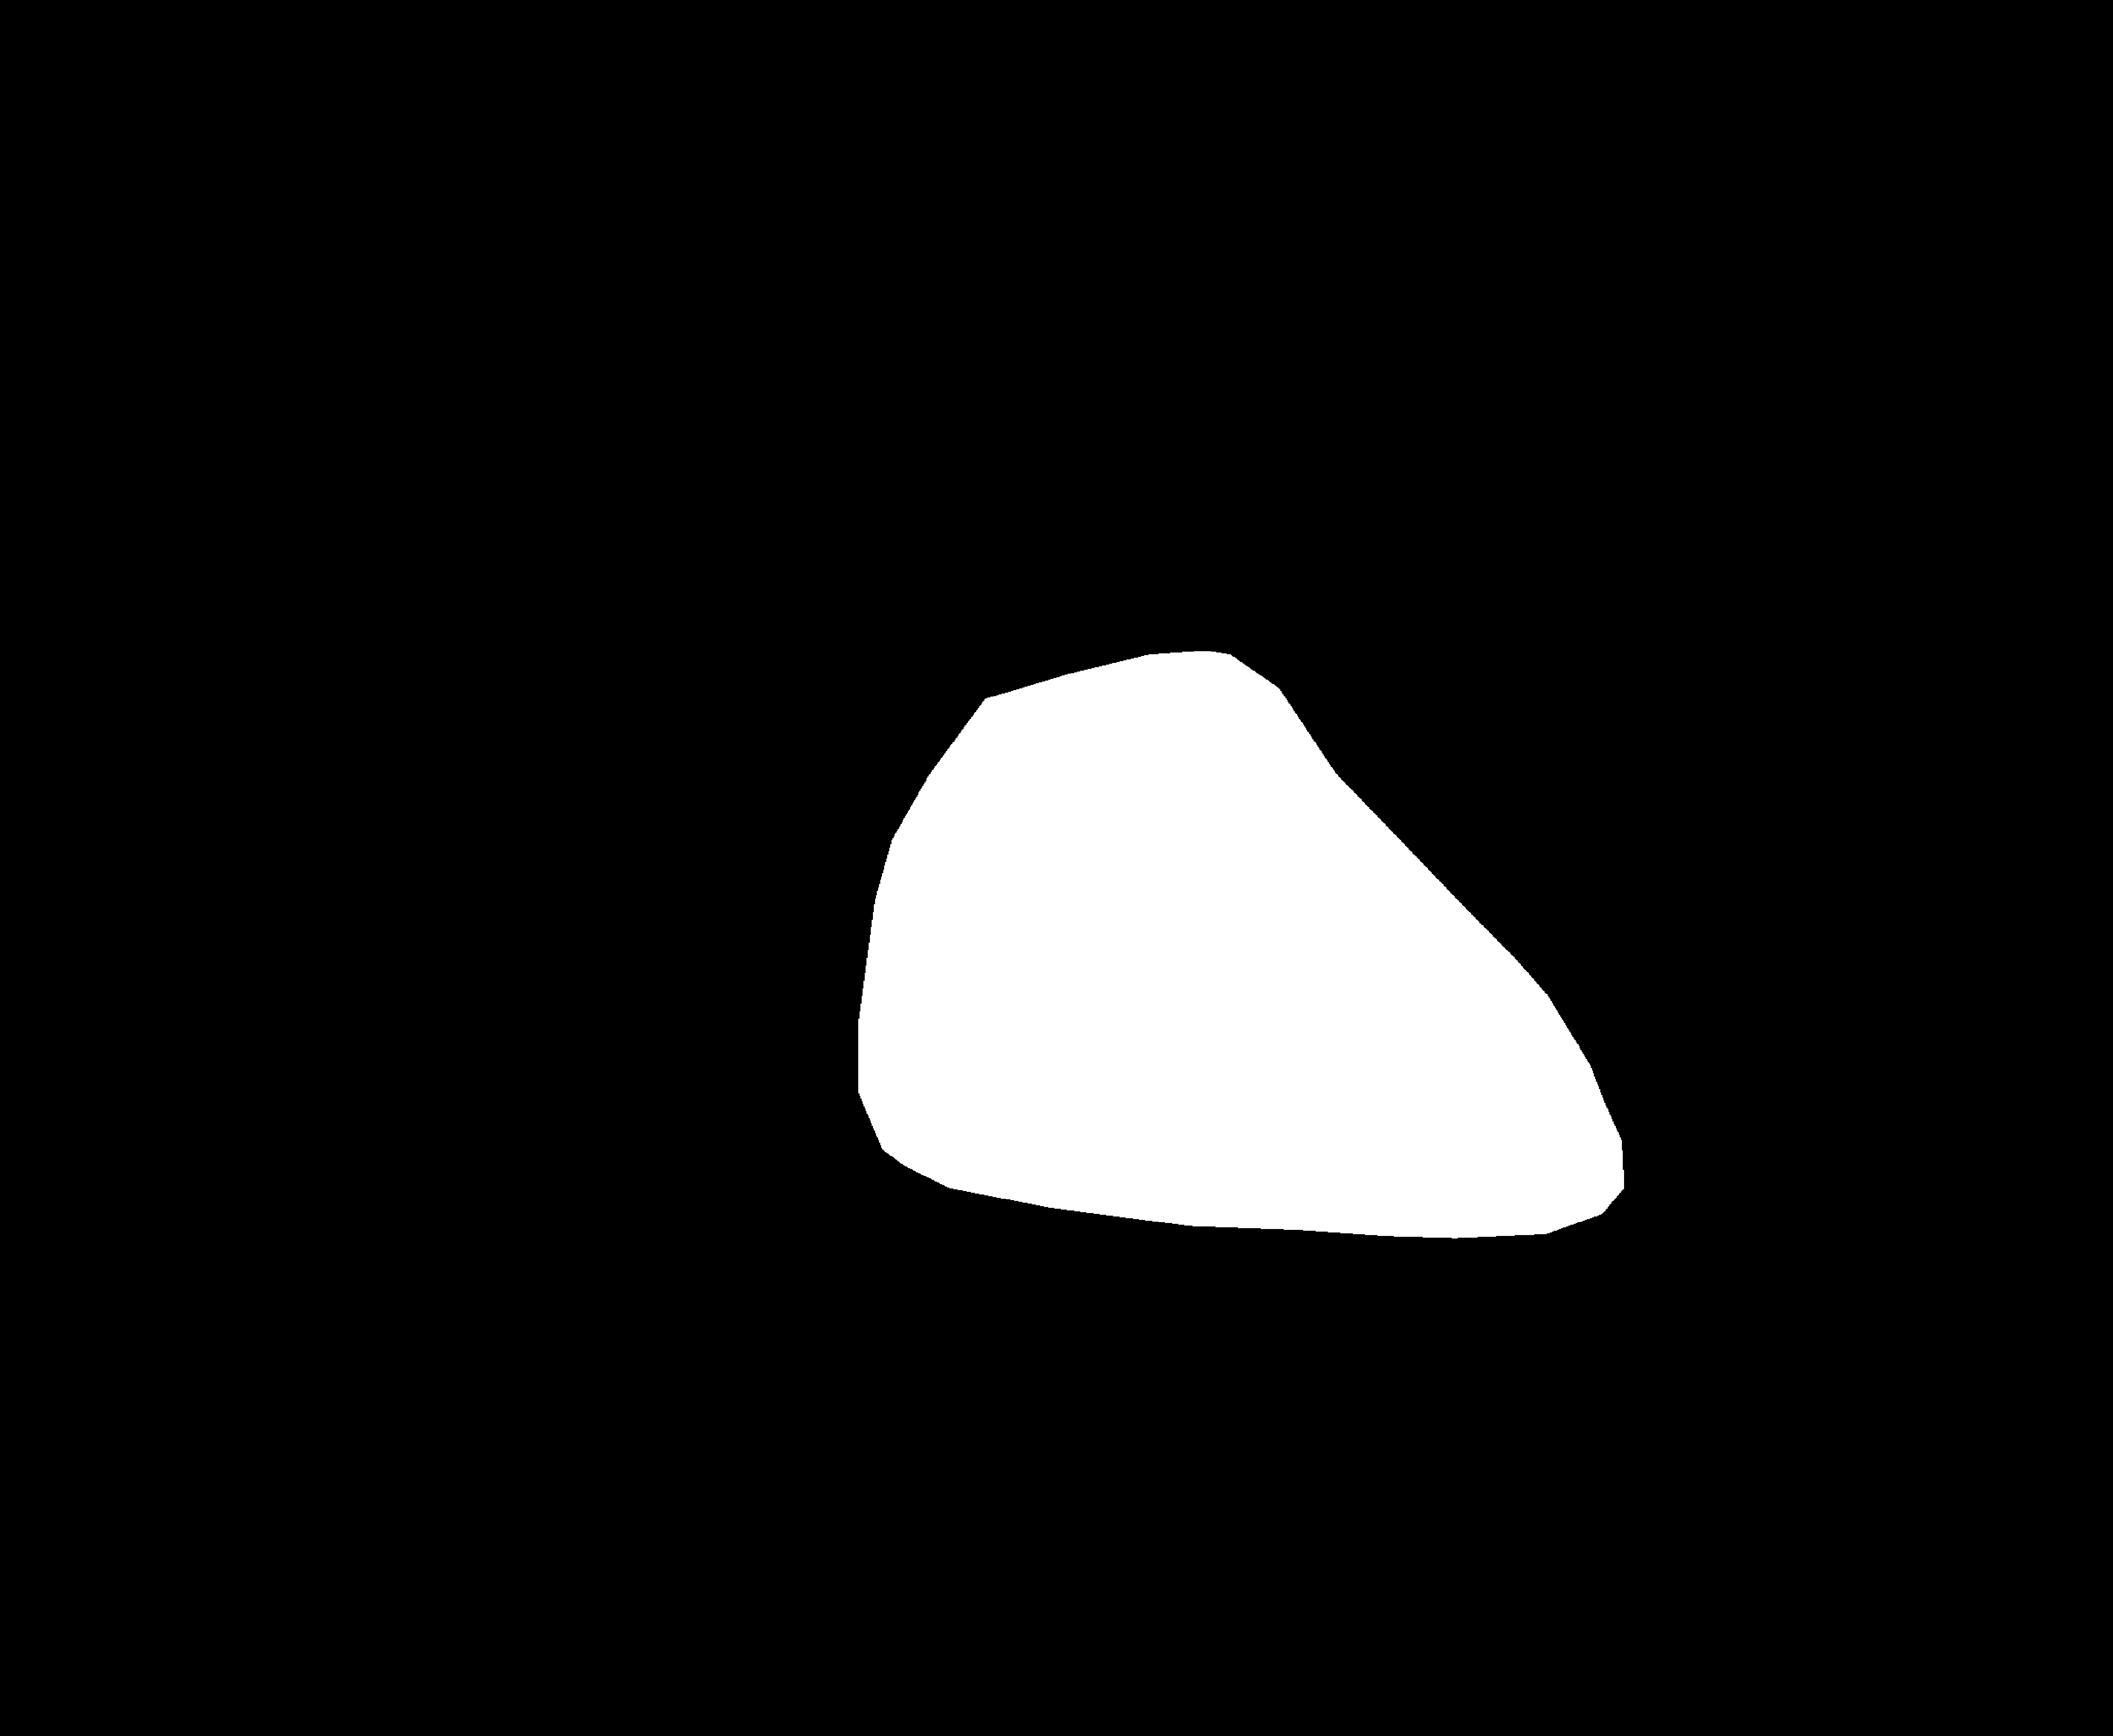heart: (851, 767, 1623, 1302)
left_lung: (153, 0, 985, 1503)
right_lung: (1123, 2, 1969, 1431)
